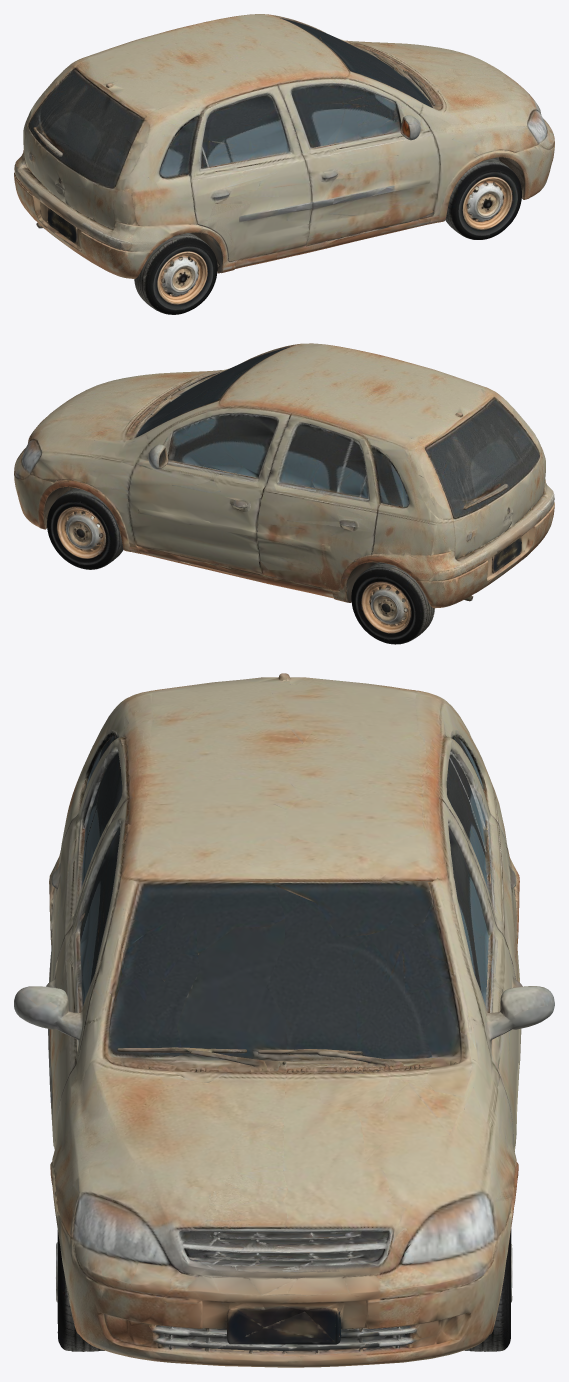
The model's file is hatch-arredondado-abandonado__01a16c1c.glb.
The picture shows the model from 3 angles, top to bottom: view 1: azimuth 30°, elevation 25°; view 2: azimuth 150°, elevation 25°; view 3: azimuth 270°, elevation 25°; orthographic projection. The views are drawn at different scales.
Parts seen in each view (by area): view 1: hatch-arredondado-abandonado; view 2: hatch-arredondado-abandonado; view 3: hatch-arredondado-abandonado.
Boxes of the visible parts, bbox=[...] form: hatch-arredondado-abandonado: bbox=[14, 14, 554, 314]; hatch-arredondado-abandonado: bbox=[14, 343, 554, 644]; hatch-arredondado-abandonado: bbox=[14, 673, 554, 1367].
Size of the model in its own units: 3.82 by 1.54 by 1.98.
Materials: 1 (1 with a texture image).
